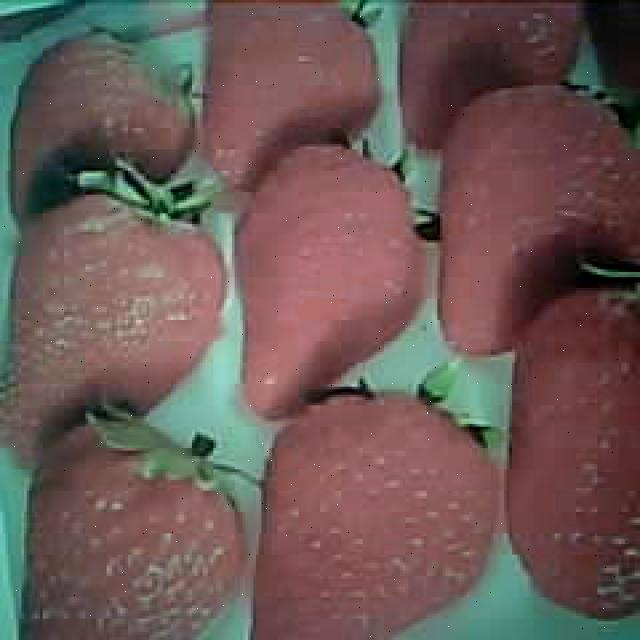ripe: (252, 393, 491, 640), (0, 197, 226, 458), (430, 83, 640, 354), (232, 140, 424, 405), (18, 430, 248, 640)
